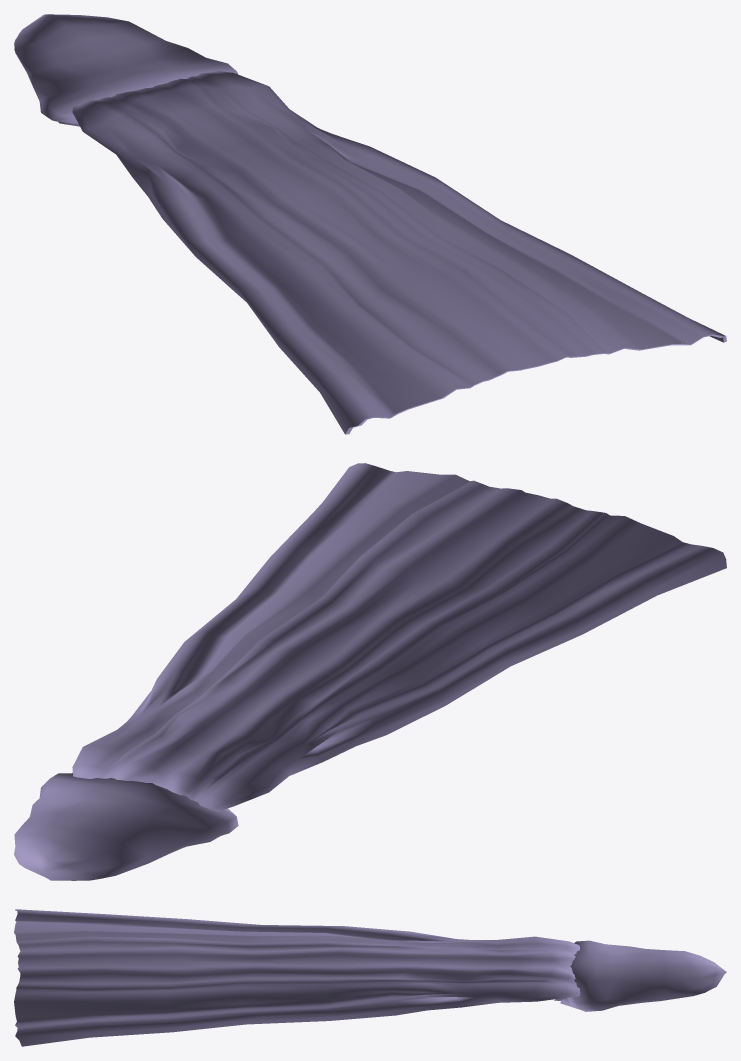
The model's file is W_Star_Cape.FBX.
3 renders of one model, top to bottom at view 1: azimuth 30°, elevation 25°; view 2: azimuth 150°, elevation 25°; view 3: azimuth 270°, elevation 25°, orthographic. The views are drawn at different scales.
Parts seen in each view (by area): view 1: ssPlane002; view 2: ssPlane002; view 3: ssPlane002.
Part boxes in pixels (x1=…): ssPlane002: x1=14, y1=14, x2=726, y2=434; ssPlane002: x1=14, y1=463, x2=726, y2=880; ssPlane002: x1=14, y1=909, x2=726, y2=1046.
Size of the model in its own units: 34.17 by 3.06 by 77.35.
